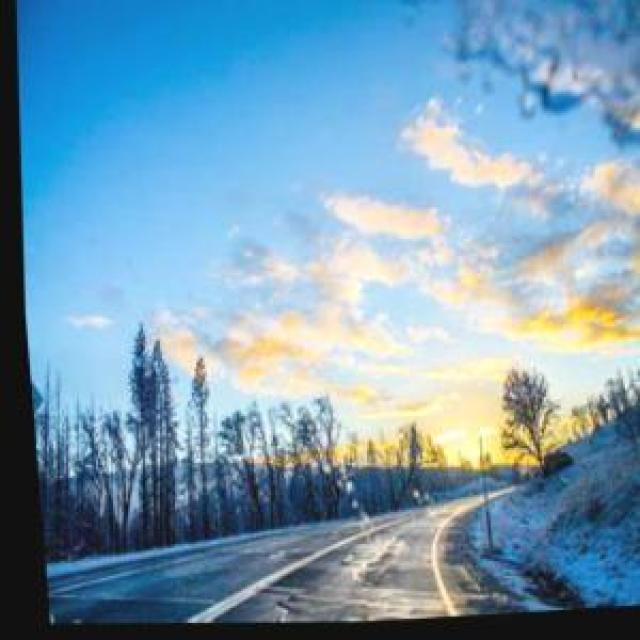ice-road: (38, 497, 523, 625)
